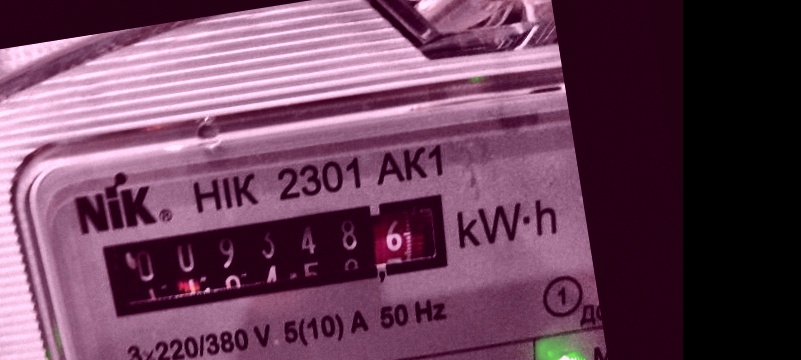0: (172, 238, 198, 276), (132, 246, 157, 284)
3: (253, 226, 280, 261)
4: (292, 220, 319, 259)
6: (380, 216, 407, 253)
8: (335, 215, 360, 252)
9: (214, 232, 237, 269)
screen: (77, 176, 473, 336)
